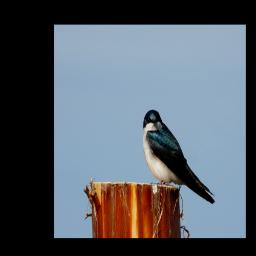Swallow: (142, 108, 216, 206)
